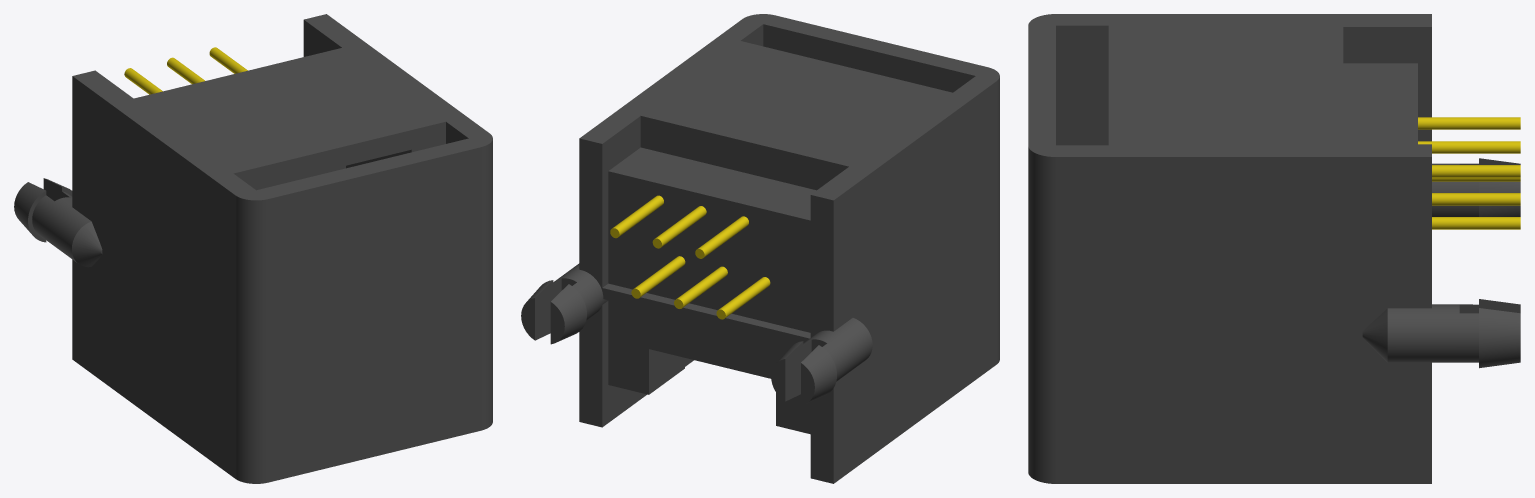
3 renders of one model, left to right at view 1: azimuth 30°, elevation 25°; view 2: azimuth 150°, elevation 25°; view 3: azimuth 270°, elevation 25°, orthographic. The views are drawn at different scales.
Parts seen in each view (by area): view 1: TJ6P6C; view 2: TJ6P6C; view 3: TJ6P6C.
Boxes of the visible parts, x1=… form: TJ6P6C: x1=14, y1=14, x2=492, y2=483; TJ6P6C: x1=521, y1=14, x2=999, y2=483; TJ6P6C: x1=1028, y1=14, x2=1520, y2=483.
Size of the model in its own units: 0.0145 by 0.013 by 0.0178.
